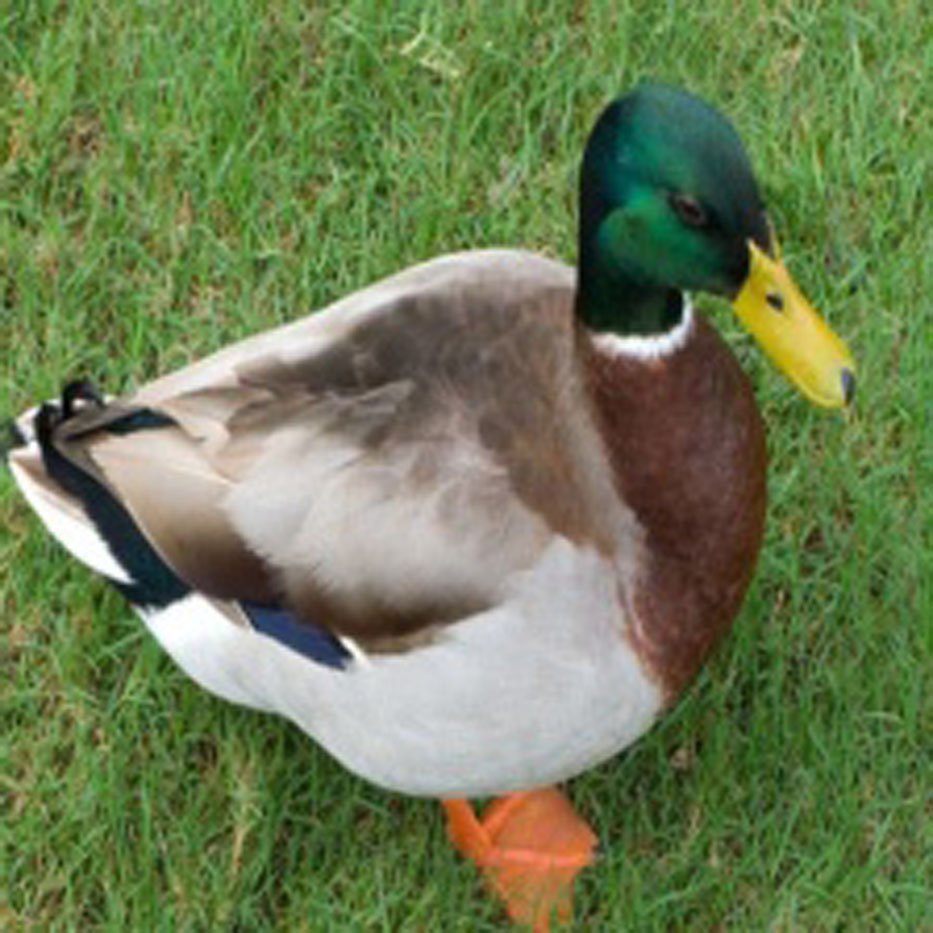Mencari Makan di Lumpur: (728, 229, 881, 431)
